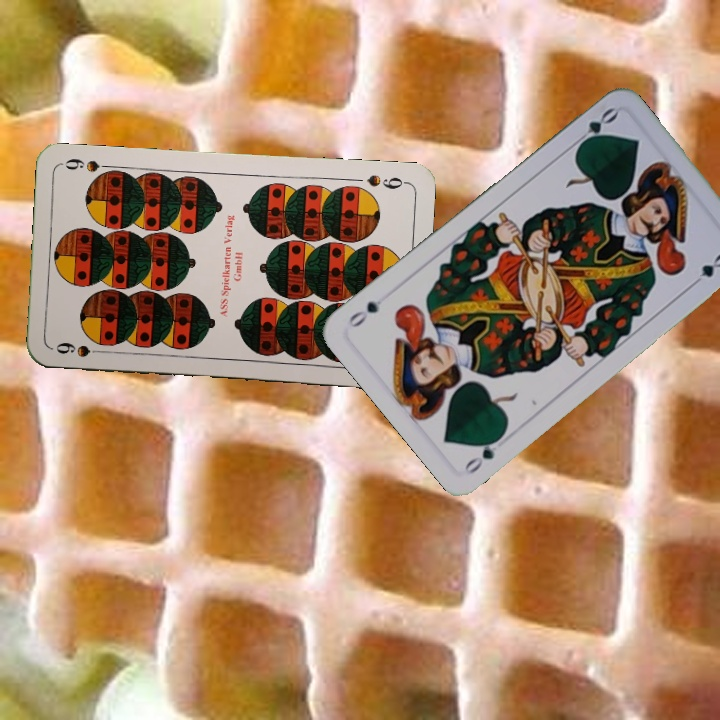GO: (569, 103, 620, 152), (460, 429, 507, 478)
S9: (52, 338, 110, 360), (362, 170, 409, 192)
